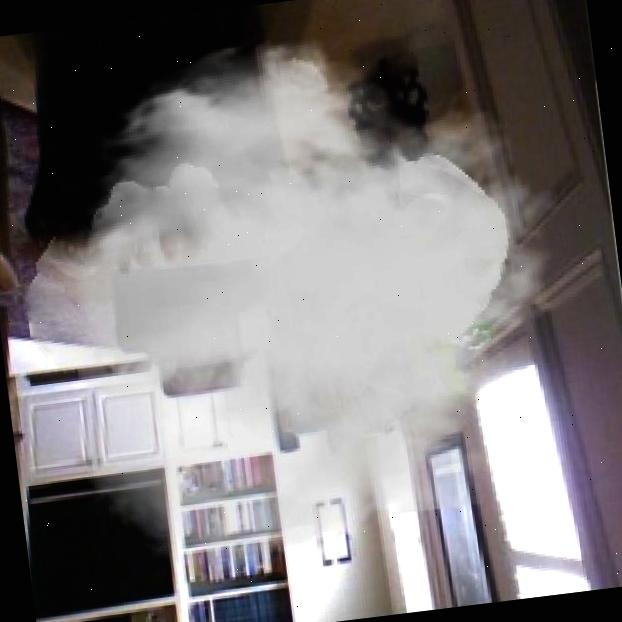smoke: (0, 1, 602, 604)
